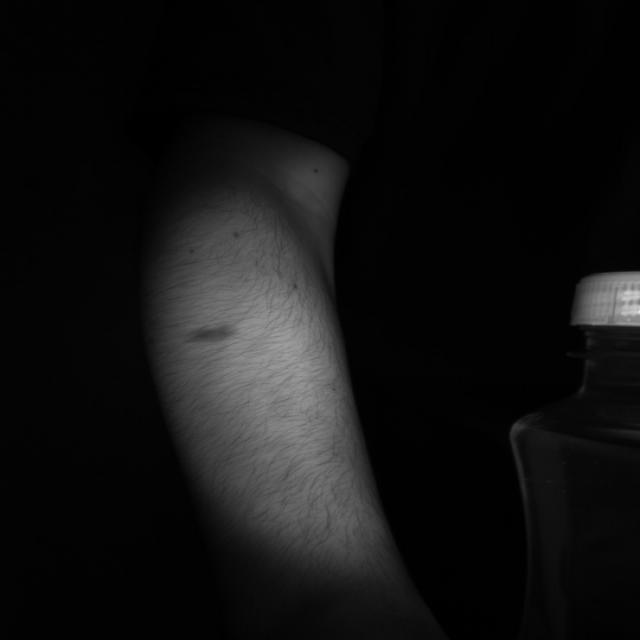Not Good: (570, 269, 640, 351)
